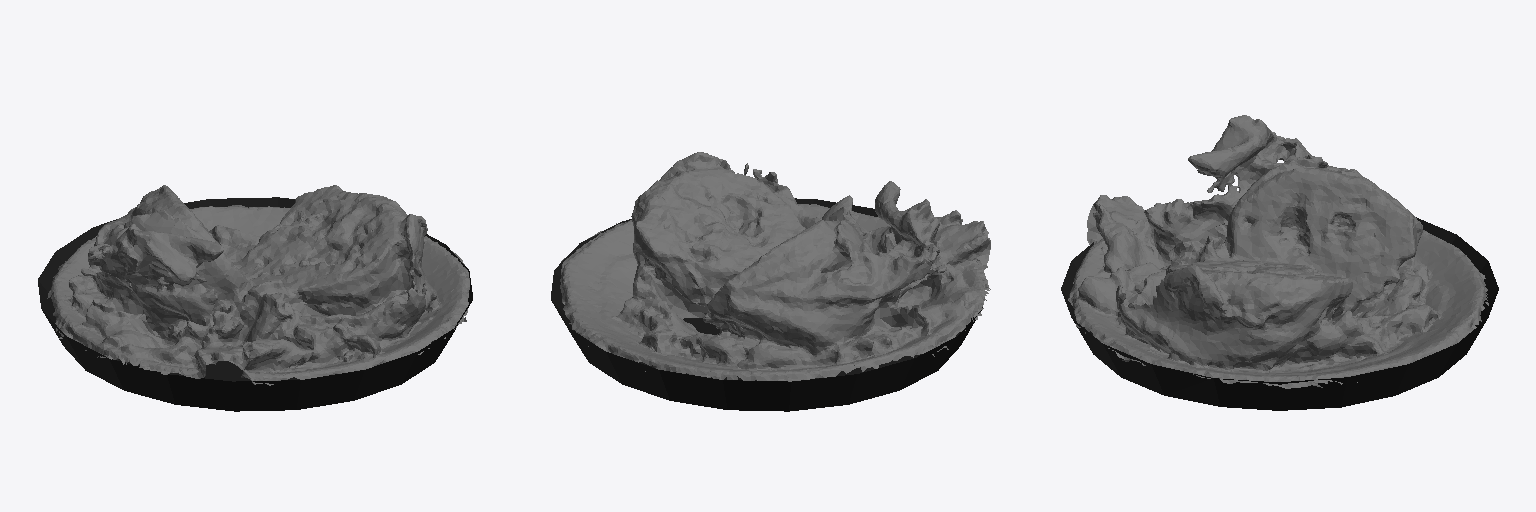
Rendered from retas.obj.
3 views of the same model, side by side, from view 1: azimuth 30°, elevation 25°; view 2: azimuth 150°, elevation 25°; view 3: azimuth 270°, elevation 25° (orthographic).
Size of the model in its own units: 11501 by 4216 by 11476.